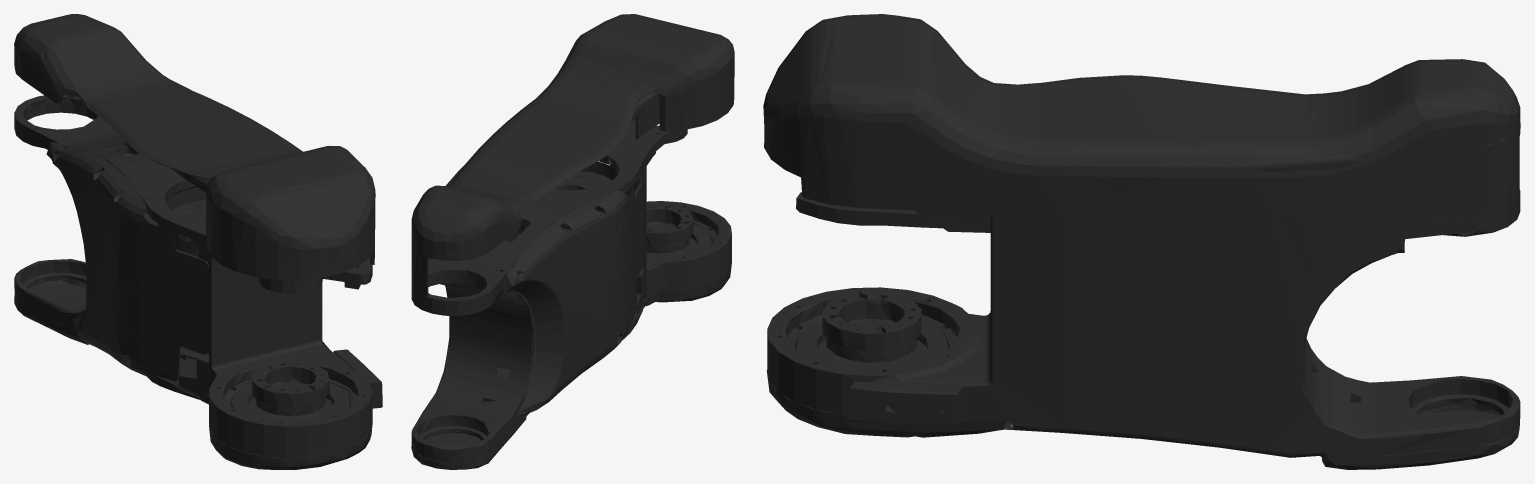
File: knee_lo_res.dae
3 renders of one model, left to right at view 1: azimuth 30°, elevation 25°; view 2: azimuth 150°, elevation 25°; view 3: azimuth 270°, elevation 25°, orthographic. The views are drawn at different scales.
Parts seen in each view (by area): view 1: node; view 2: node; view 3: node.
Part boxes in pixels (x1,y1,x2,y2): node: (14, 14, 382, 469); node: (411, 14, 734, 469); node: (763, 14, 1520, 469).
Size of the model in its own units: 0.1342 by 0.236 by 0.4181.
Materials: 1 (1 with a texture image).
